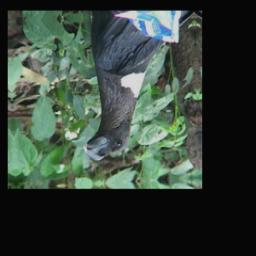Crow: (76, 13, 179, 161)
